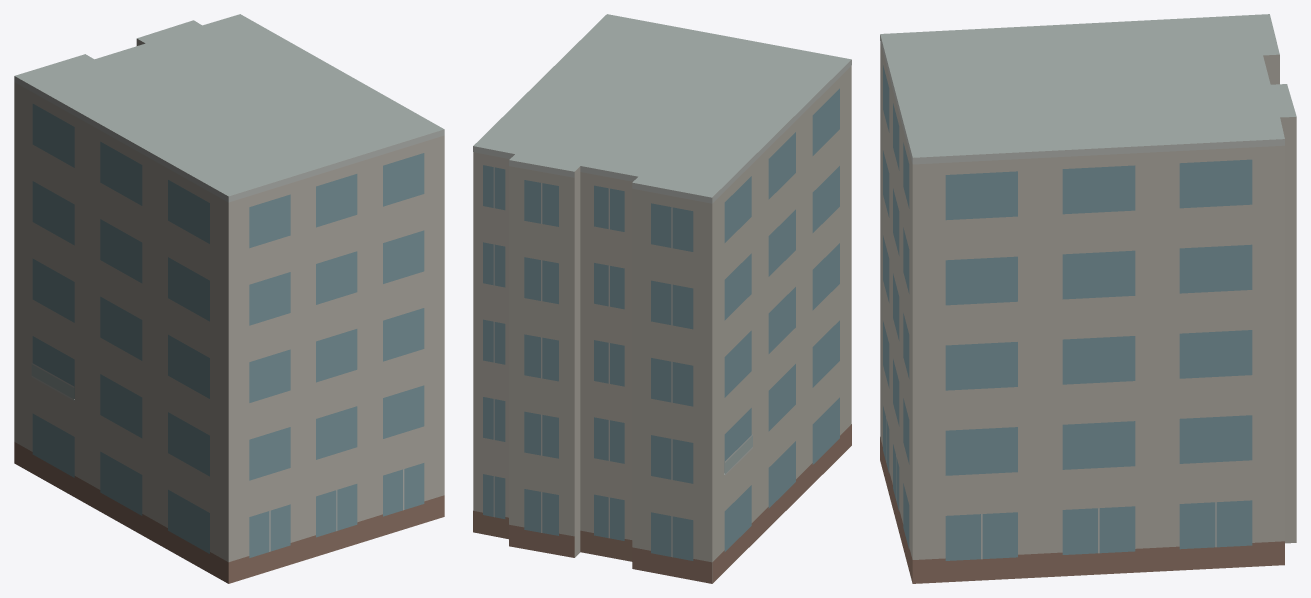
File: survey-upis-33040320.glb
3 renders of one model, left to right at view 1: azimuth 30°, elevation 25°; view 2: azimuth 150°, elevation 25°; view 3: azimuth 270°, elevation 25°, orthographic. The views are drawn at different scales.
Visible parts, largest first — view 1: survey-upis-33040320.tmp; view 2: survey-upis-33040320.tmp; view 3: survey-upis-33040320.tmp.
Boxes of the visible parts, x1,y1,x2,y2 form: survey-upis-33040320.tmp: (14, 14, 444, 583); survey-upis-33040320.tmp: (473, 14, 851, 583); survey-upis-33040320.tmp: (880, 14, 1296, 583).
Bounding box in the file's own units: 11.3 × 15.6 × 13.84.
